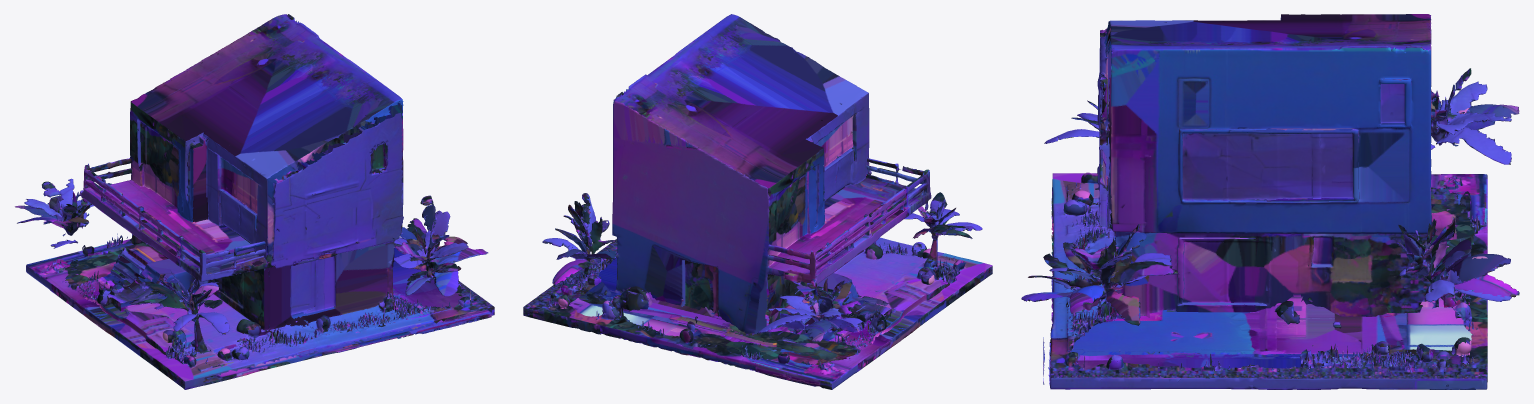
Rendered from house_2.glb.
3 views of the same model, side by side, from view 1: azimuth 30°, elevation 25°; view 2: azimuth 150°, elevation 25°; view 3: azimuth 270°, elevation 25° (orthographic). The views are drawn at different scales.
Parts seen in each view (by area): view 1: Node #0; view 2: Node #0; view 3: Node #0.
Boxes of the visible parts, x1=… form: Node #0: x1=15, y1=14, x2=494, y2=389; Node #0: x1=523, y1=14, x2=992, y2=389; Node #0: x1=1021, y1=14, x2=1519, y2=389.
Bounding box in the file's own units: 1.98 × 1.27 × 1.93.
1 material, 1 textured.
